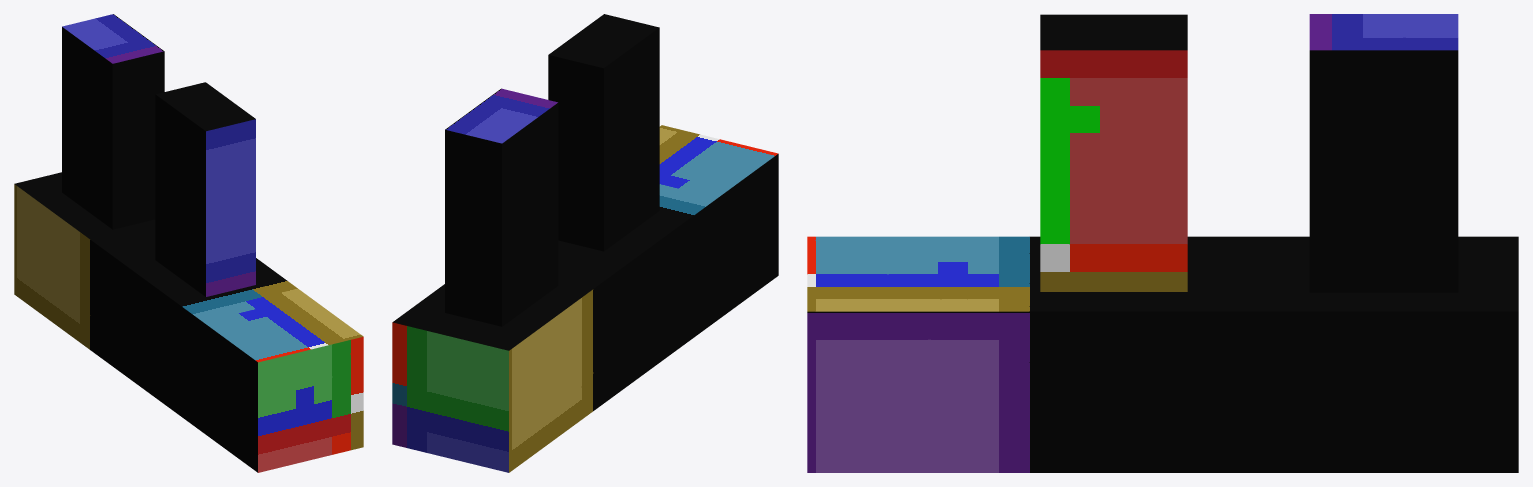
The model's file is fence_1.obj.
3 views of the same model, side by side, from view 1: azimuth 30°, elevation 25°; view 2: azimuth 150°, elevation 25°; view 3: azimuth 270°, elevation 25° (orthographic). The views are drawn at different scales.
Parts seen in each view (by area): view 1: plane.007, plane.005, plane.009; view 2: plane.007, plane.005, plane.010; view 3: plane.007, plane.006.
Boxes of the visible parts, bbox=[...] form: plane.007: bbox=[14, 14, 363, 362]; plane.005: bbox=[14, 184, 257, 472]; plane.009: bbox=[258, 336, 363, 472]; plane.007: bbox=[393, 14, 778, 350]; plane.005: bbox=[509, 154, 778, 472]; plane.010: bbox=[392, 322, 508, 472]; plane.007: bbox=[807, 14, 1518, 311]; plane.006: bbox=[807, 311, 1518, 472].
Bounding box in the file's own units: 0.25 × 0.625 × 1.
1 material, 1 textured.
